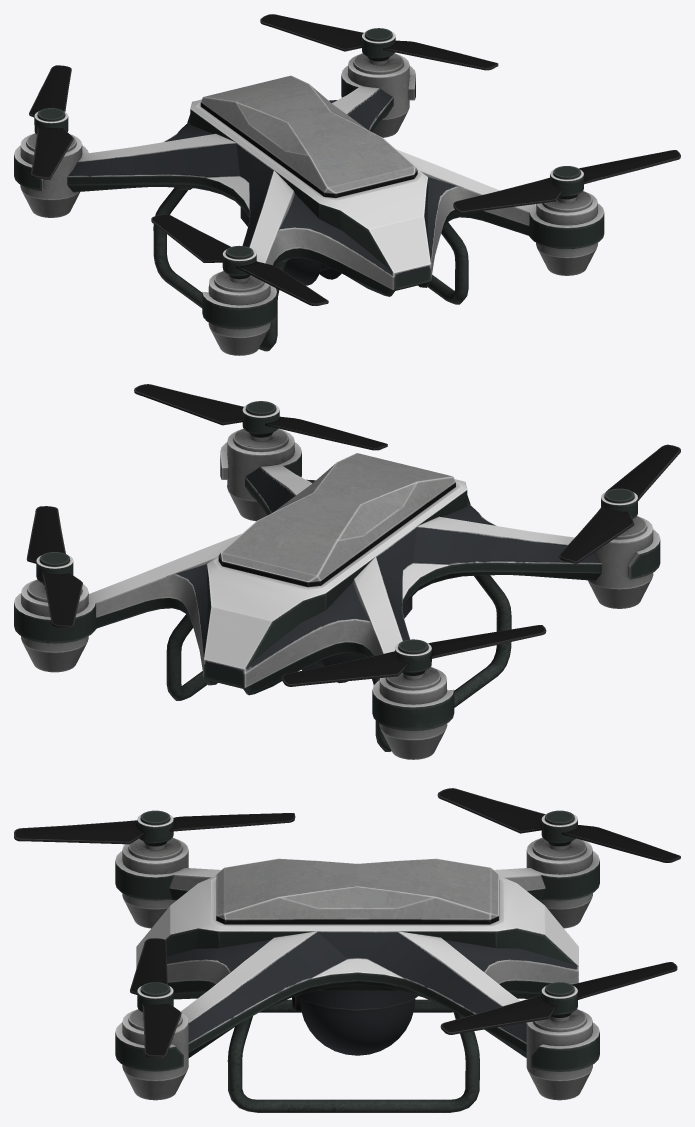
The model's file is drone.glb.
3 renders of one model, top to bottom at view 1: azimuth 30°, elevation 25°; view 2: azimuth 150°, elevation 25°; view 3: azimuth 270°, elevation 25°, orthographic. The views are drawn at different scales.
Visible parts, largest first — view 1: quadrocopter_body_object, quadrocopter_bumper_object, quadrocopter_propeller_1_object, quadrocopter_propeller_4_object, quadrocopter_propeller_2_object, quadrocopter_propeller_3_object, quadrocopter_cam2_object; view 2: quadrocopter_body_object, quadrocopter_bumper_object, quadrocopter_propeller_3_object, quadrocopter_propeller_2_object, quadrocopter_propeller_1_object, quadrocopter_propeller_4_object; view 3: quadrocopter_body_object, quadrocopter_bumper_object, quadrocopter_cam2_object, quadrocopter_propeller_2_object, quadrocopter_propeller_3_object, quadrocopter_propeller_4_object, quadrocopter_propeller_1_object.
Boxes of the visible parts, <box> form: quadrocopter_body_object: <box>14,28,604,355</box>; quadrocopter_bumper_object: <box>153,187,468,351</box>; quadrocopter_propeller_1_object: <box>453,150,680,213</box>; quadrocopter_propeller_4_object: <box>260,14,498,70</box>; quadrocopter_propeller_2_object: <box>151,214,328,305</box>; quadrocopter_propeller_3_object: <box>29,65,73,179</box>; quadrocopter_cam2_object: <box>284,258,341,285</box>; quadrocopter_body_object: <box>14,401,660,759</box>; quadrocopter_bumper_object: <box>166,575,511,751</box>; quadrocopter_propeller_3_object: <box>281,625,546,686</box>; quadrocopter_propeller_2_object: <box>559,444,680,563</box>; quadrocopter_propeller_1_object: <box>134,384,387,450</box>; quadrocopter_propeller_4_object: <box>26,506,82,628</box>; quadrocopter_body_object: <box>115,810,599,1100</box>; quadrocopter_bumper_object: <box>227,999,479,1112</box>; quadrocopter_cam2_object: <box>299,998,415,1055</box>; quadrocopter_propeller_2_object: <box>14,813,295,844</box>; quadrocopter_propeller_3_object: <box>437,788,680,862</box>; quadrocopter_propeller_4_object: <box>440,962,677,1034</box>; quadrocopter_propeller_1_object: <box>130,938,181,1058</box>.
Size of the model in its own units: 11.43 by 3.74 by 12.06.
Materials: 1 (1 with a texture image).
